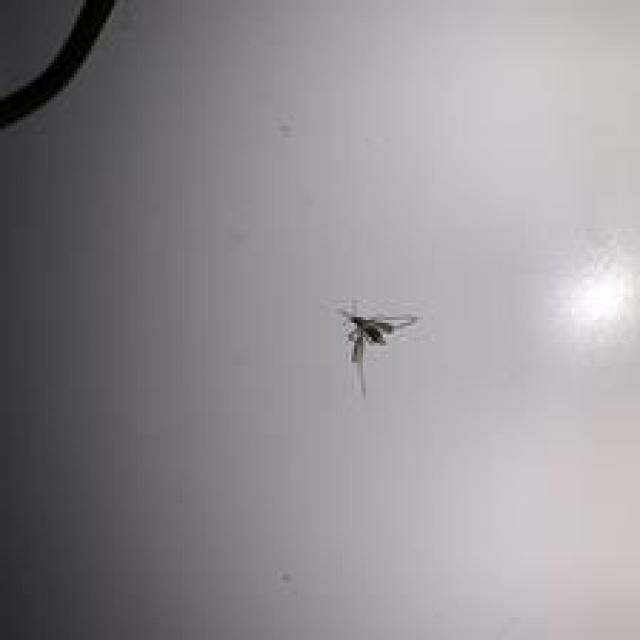Culex: (336, 301, 418, 396)
